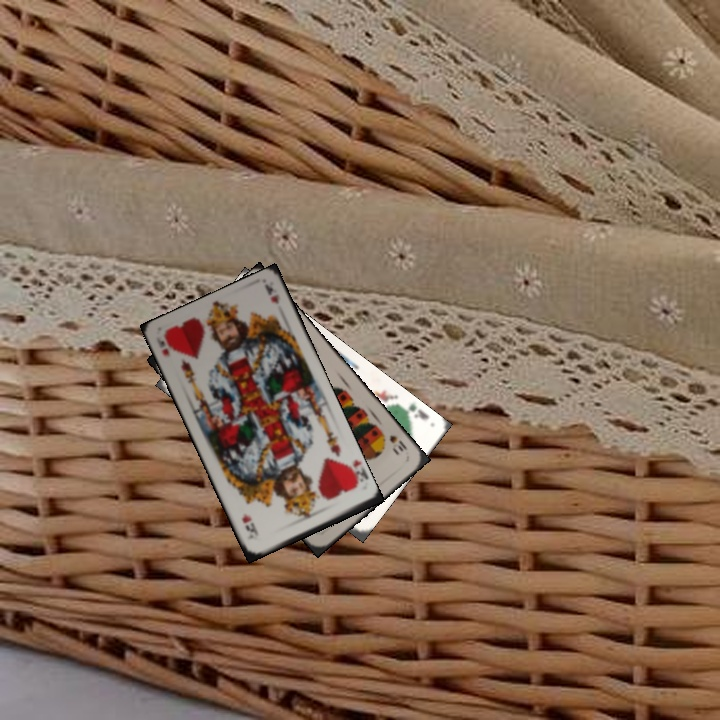GK: (395, 399, 432, 422)
HK: (339, 457, 368, 491), (153, 334, 173, 360)
S10: (385, 431, 410, 454)
